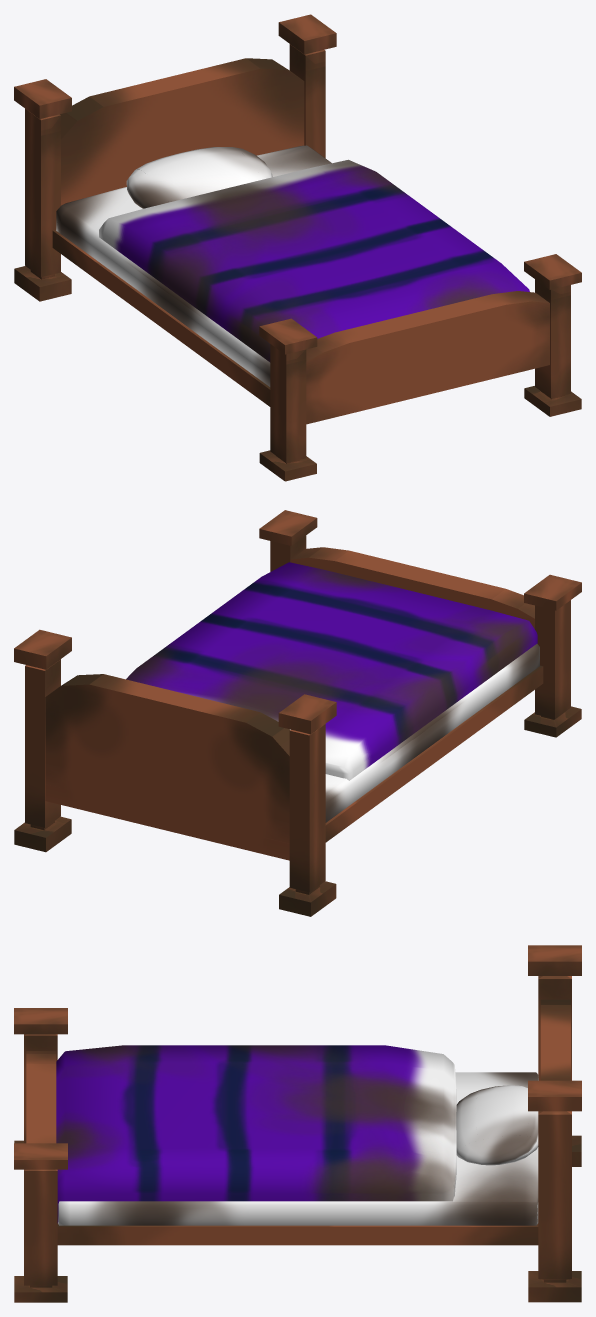
The model's file is dirty Bed.glb.
3 views of the same model, one above another, from view 1: azimuth 30°, elevation 25°; view 2: azimuth 150°, elevation 25°; view 3: azimuth 270°, elevation 25° (orthographic). The views are drawn at different scales.
Parts seen in each view (by area): view 1: Cube.006, Cube.010, Cube.008, Cube.007, Cube.009, Cube.011; view 2: Cube.010, Cube.006, Cube.008, Cube.007, Cube.009; view 3: Cube.010, Cube.009, Cube.006, Cube.008, Cube.007, Cube.011.
Boxes of the visible parts, left/top/right/bottom form: Cube.006: left=52, top=58, right=549, bottom=424; Cube.010: left=99, top=159, right=529, bottom=362; Cube.008: left=14, top=14, right=336, bottom=301; Cube.007: left=259, top=254, right=581, bottom=481; Cube.009: left=56, top=145, right=331, bottom=386; Cube.011: left=126, top=147, right=272, bottom=208; Cube.010: left=126, top=562, right=537, bottom=780; Cube.006: left=45, top=547, right=543, bottom=860; Cube.008: left=14, top=629, right=336, bottom=916; Cube.007: left=259, top=510, right=581, bottom=737; Cube.009: left=325, top=644, right=539, bottom=822; Cube.010: left=56, top=1045, right=456, bottom=1222; Cube.009: left=58, top=1072, right=538, bottom=1225; Cube.006: left=26, top=999, right=570, bottom=1245; Cube.008: left=528, top=945, right=581, bottom=1302; Cube.007: left=14, top=1008, right=67, bottom=1302; Cube.011: left=456, top=1085, right=538, bottom=1165.
Bounding box in the file's own units: 0.9515 × 0.6015 × 1.5.
5 materials, 5 textured.
